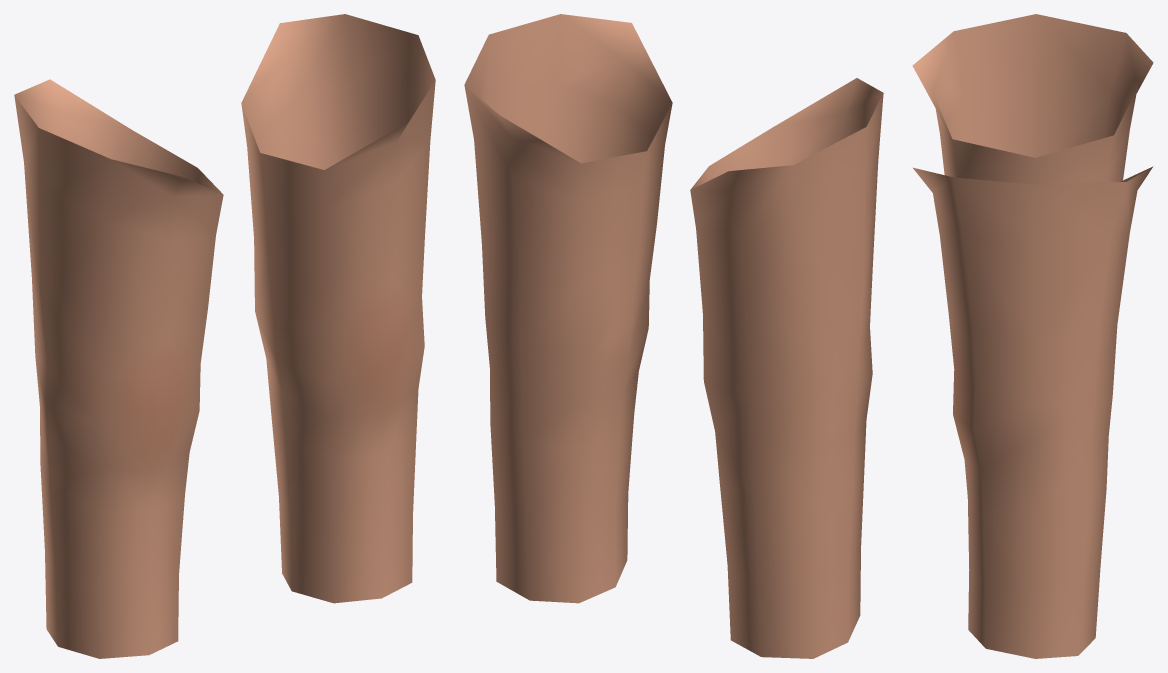
Rendered from Body_Yellow_LegC_2.fbx.
3 views of the same model, side by side, from view 1: azimuth 30°, elevation 25°; view 2: azimuth 150°, elevation 25°; view 3: azimuth 270°, elevation 25° (orthographic). The views are drawn at different scales.
Visible parts, largest first — view 1: Body_Yellow_LegC_2; view 2: Body_Yellow_LegC_2; view 3: Body_Yellow_LegC_2.
Boxes of the visible parts, bbox=[...] form: Body_Yellow_LegC_2: bbox=[14, 14, 435, 658]; Body_Yellow_LegC_2: bbox=[464, 14, 883, 658]; Body_Yellow_LegC_2: bbox=[912, 14, 1153, 658].
Size of the model in its own units: 33.18 by 44.04 by 19.8.
